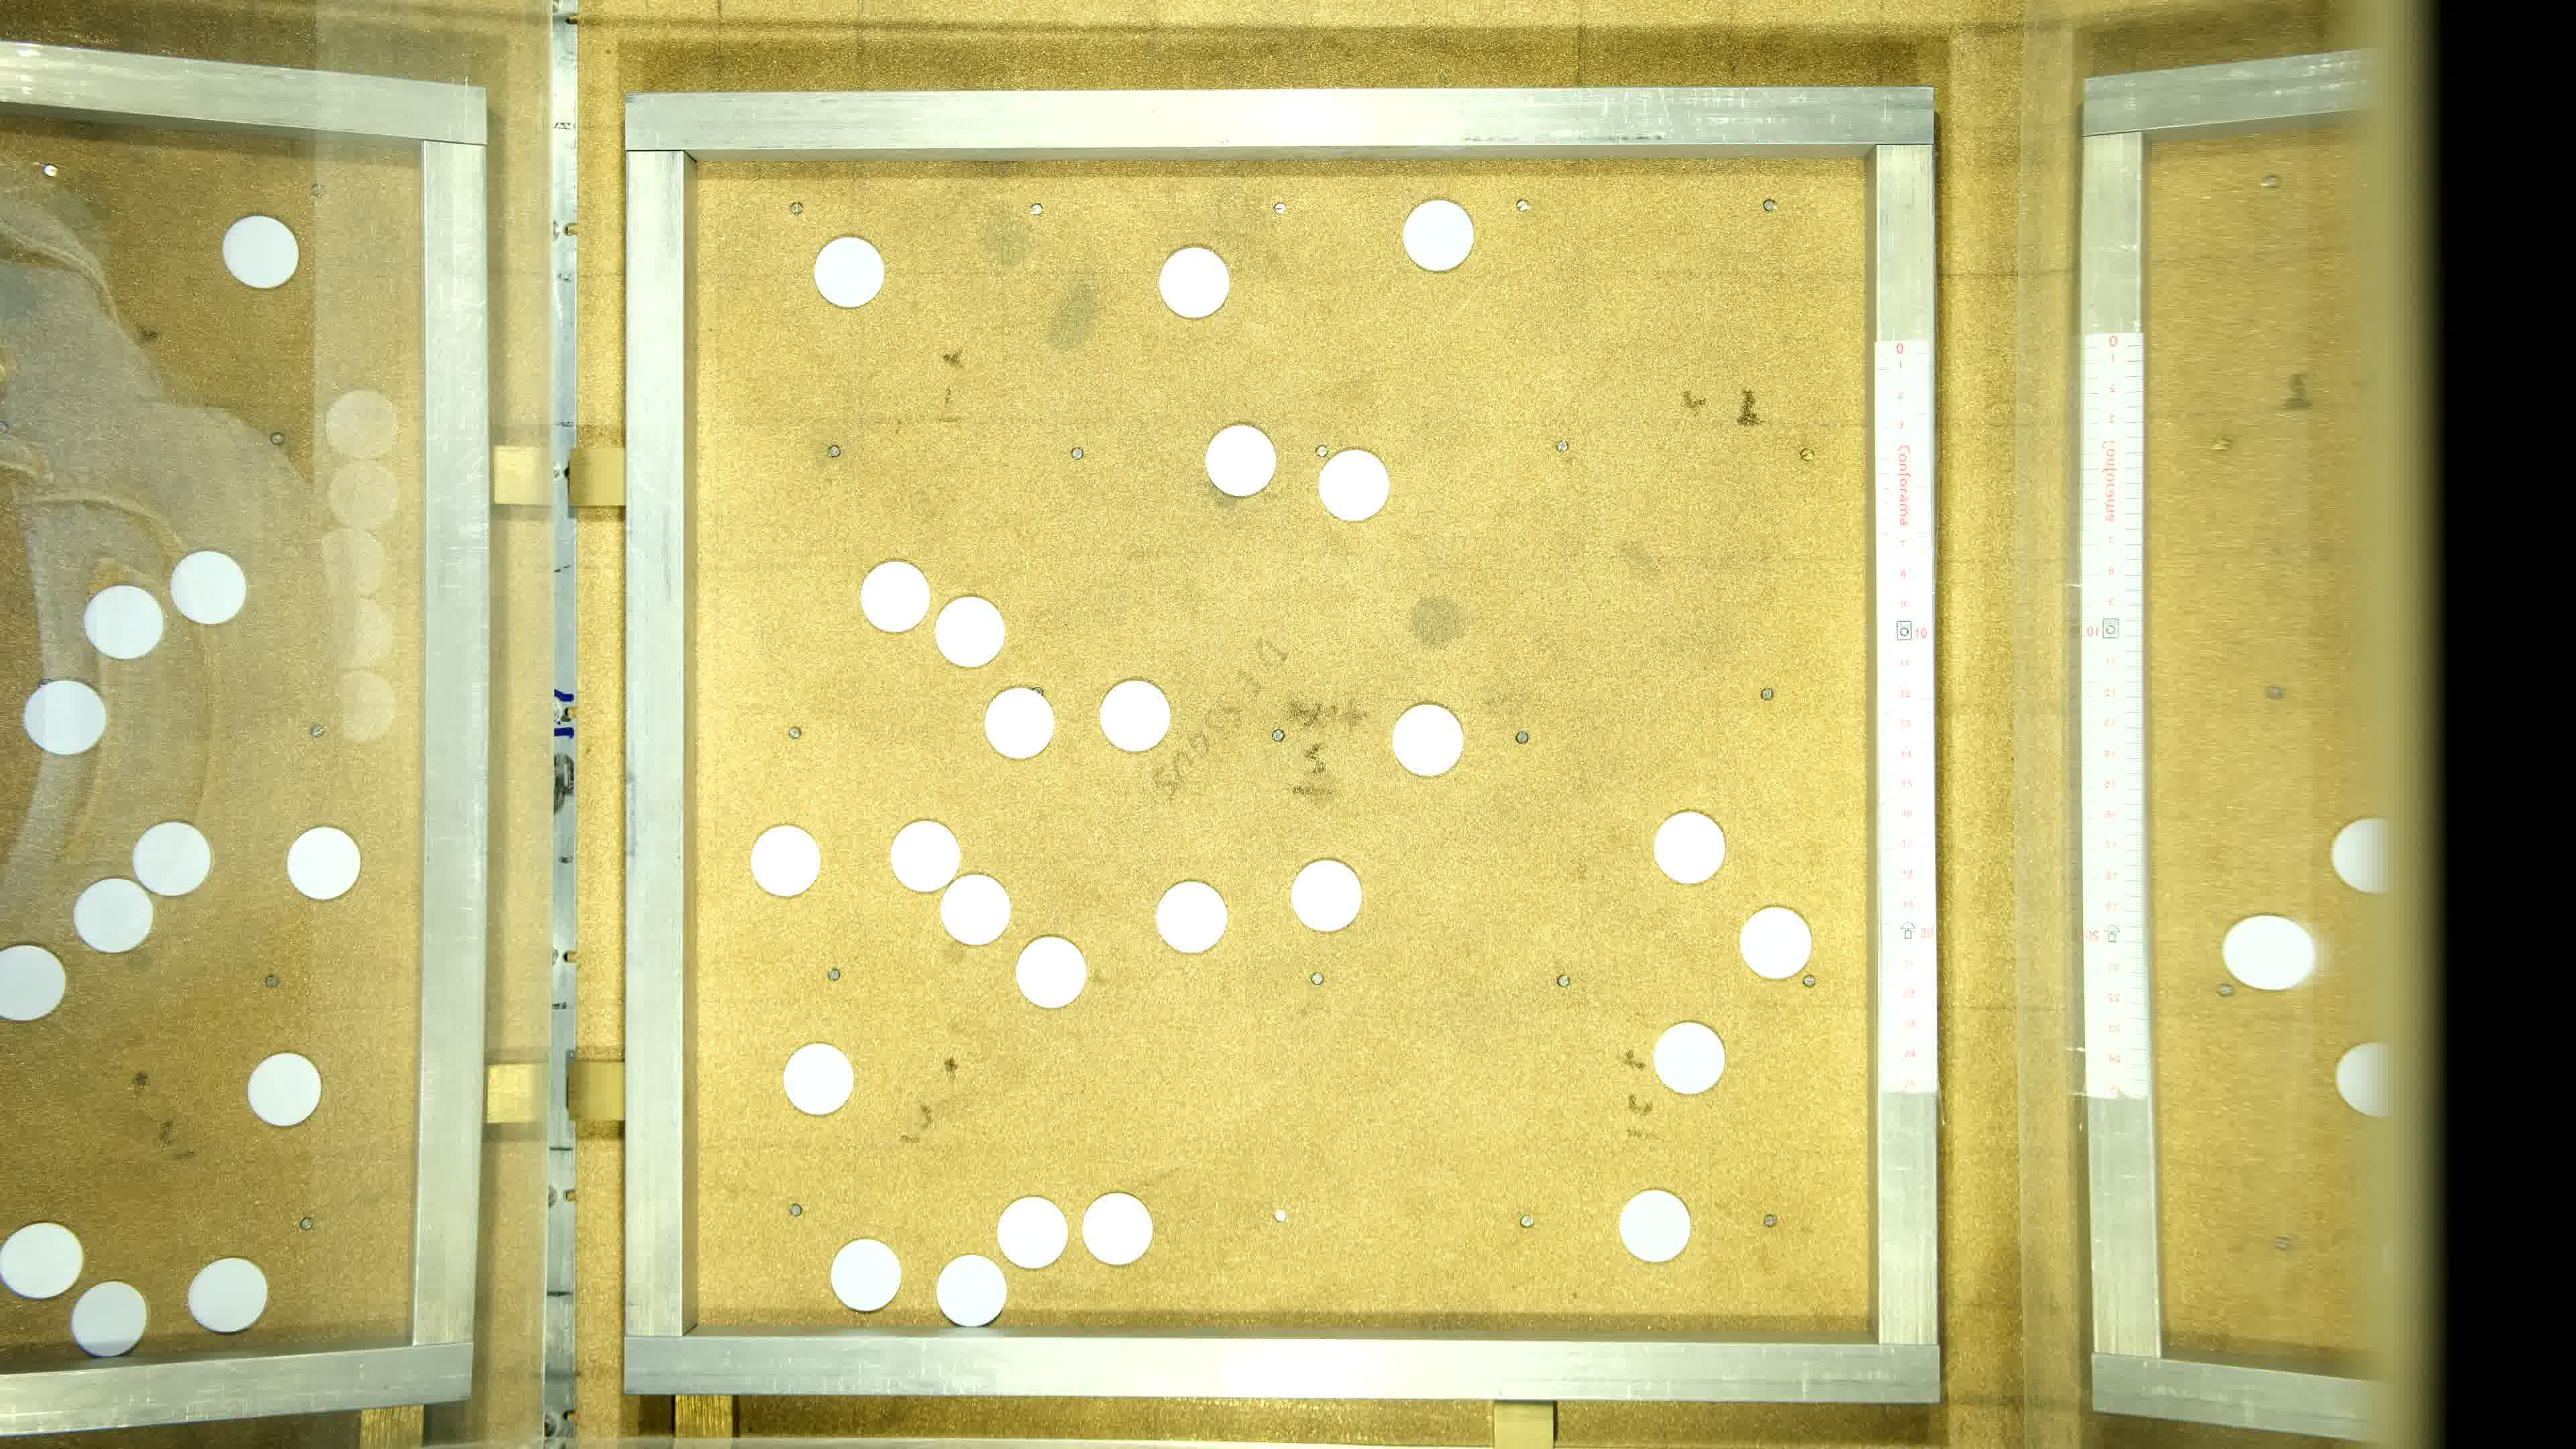pallet: (814, 237, 886, 311), (994, 1198, 1067, 1272), (932, 1258, 1005, 1332), (786, 1044, 858, 1118), (750, 824, 823, 899), (892, 823, 964, 897), (941, 872, 1014, 947), (1614, 1189, 1686, 1263), (1654, 1021, 1727, 1095), (1737, 904, 1810, 978), (1654, 809, 1727, 883), (931, 594, 1003, 669), (862, 561, 934, 635), (1320, 444, 1392, 518), (1205, 421, 1277, 495), (1399, 200, 1472, 274), (1157, 246, 1230, 320), (1081, 1191, 1154, 1263), (832, 1235, 904, 1307), (1014, 938, 1086, 1010), (1155, 885, 1228, 957), (1288, 858, 1361, 931), (982, 690, 1054, 763), (1097, 679, 1169, 752), (1394, 704, 1465, 777)
